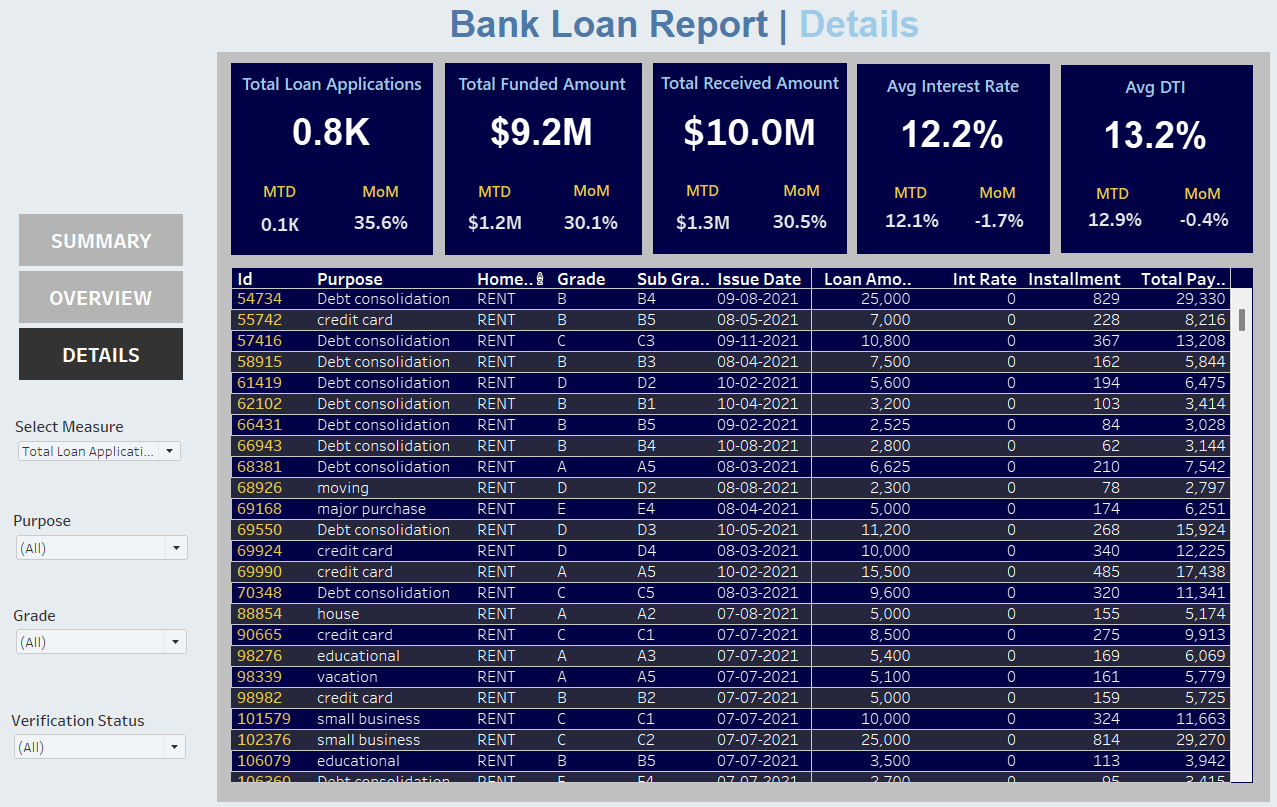

The page's visual inventory and layout, read from the dashboard file:
{"tool":"tableau","page":{"name":"DETAILS","canvas":[1600,900],"ordinal":0},"visuals":[{"type":"text","box":[451,7,541,47]},{"type":"worksheet","title":"Total Received Amount","mark":"Automatic","box":[661,73,188,88]},{"type":"worksheet","title":"Total Loan Applications","mark":"Automatic","box":[240,74,194,93]},{"type":"worksheet","title":"Total Funded Amount","mark":"Automatic","box":[453,74,188,93]},{"type":"worksheet","title":"Avg Interest Rate","mark":"Automatic","box":[865,76,186,92]},{"type":"worksheet","title":"Avg DTI","mark":"Automatic","box":[1082,77,157,93]},{"type":"text","box":[566,181,61,30]},{"type":"text","box":[677,181,61,30]},{"type":"text","box":[776,181,61,30]},{"type":"text","box":[254,182,61,30]},{"type":"text","box":[355,182,61,30]},{"type":"text","box":[469,182,61,30]},{"type":"text","box":[885,183,61,30]},{"type":"text","box":[972,183,61,30]},{"type":"text","box":[1087,184,61,30]},{"type":"text","box":[1177,184,61,30]},{"type":"worksheet","title":"MoM Total Amount Received","mark":"Automatic","box":[769,202,72,50]},{"type":"worksheet","title":"MTD Avg DTI","mark":"Automatic","box":[1088,202,64,46]},{"type":"worksheet","title":"MTD Avg Interest Rate","mark":"Automatic","box":[876,203,83,46]},{"type":"worksheet","title":"MTD Total Loan Applications","mark":"Automatic","box":[240,204,91,52]},{"type":"worksheet","title":"MTD Total Amount Received","mark":"Automatic","box":[670,205,78,46]},{"type":"worksheet","title":"MoM Avg DTI","mark":"Automatic","box":[1177,205,65,41]},{"type":"worksheet","title":"MoM Avg Interest Rate","mark":"Automatic","box":[974,206,62,41]},{"type":"worksheet","title":"MoM Total Loan Applications","mark":"Automatic","box":[351,207,71,42]},{"type":"worksheet","title":"MTD Total Funded Amount","mark":"Automatic","box":[462,209,77,39]},{"type":"worksheet","title":"MoM Total Funded Amount","mark":"Automatic","box":[562,210,69,36]},{"type":"dashboard-object","box":[24,220,164,52]},{"type":"worksheet","title":"Details Tab","mark":"Automatic","rows":["id","purpose","home_ownership","grade","sub_grade","issue_date"],"box":[236,274,1021,515]},{"type":"dashboard-object","box":[24,277,164,52]},{"type":"dashboard-object","box":[24,334,164,52]},{"type":"parameter","param":"[Parameters].[Parameter 1]","box":[20,422,169,48]},{"type":"filter","title":"Avg DTI","param":"[federated.19yf0wd0rd5e221dhp3870jd0gmx].[none:purpose:nk]","box":[18,516,178,59]},{"type":"filter","title":"Avg DTI","param":"[federated.19yf0wd0rd5e221dhp3870jd0gmx].[none:grade:nk]","box":[18,611,177,52]},{"type":"filter","title":"Avg DTI","param":"[federated.19yf0wd0rd5e221dhp3870jd0gmx].[none:verification_status:nk]","box":[16,716,178,52]}]}

Visuals, with their boxes on the page's 1600x900 design canvas (x1, y1, x2, y2). These are canvas units, not pixel positions in the 1277x807 screenshot, which may show the page scaled, cropped or inside an application window:
text: (left=451, top=7, right=992, bottom=54)
"Total Received Amount" worksheet: (left=661, top=73, right=849, bottom=161)
"Total Loan Applications" worksheet: (left=240, top=74, right=434, bottom=167)
"Total Funded Amount" worksheet: (left=453, top=74, right=641, bottom=167)
"Avg Interest Rate" worksheet: (left=865, top=76, right=1051, bottom=168)
"Avg DTI" worksheet: (left=1082, top=77, right=1239, bottom=170)
text: (left=566, top=181, right=627, bottom=211)
text: (left=677, top=181, right=738, bottom=211)
text: (left=776, top=181, right=837, bottom=211)
text: (left=254, top=182, right=315, bottom=212)
text: (left=355, top=182, right=416, bottom=212)
text: (left=469, top=182, right=530, bottom=212)
text: (left=885, top=183, right=946, bottom=213)
text: (left=972, top=183, right=1033, bottom=213)
text: (left=1087, top=184, right=1148, bottom=214)
text: (left=1177, top=184, right=1238, bottom=214)
"MoM Total Amount Received" worksheet: (left=769, top=202, right=841, bottom=252)
"MTD Avg DTI" worksheet: (left=1088, top=202, right=1152, bottom=248)
"MTD Avg Interest Rate" worksheet: (left=876, top=203, right=959, bottom=249)
"MTD Total Loan Applications" worksheet: (left=240, top=204, right=331, bottom=256)
"MTD Total Amount Received" worksheet: (left=670, top=205, right=748, bottom=251)
"MoM Avg DTI" worksheet: (left=1177, top=205, right=1242, bottom=246)
"MoM Avg Interest Rate" worksheet: (left=974, top=206, right=1036, bottom=247)
"MoM Total Loan Applications" worksheet: (left=351, top=207, right=422, bottom=249)
"MTD Total Funded Amount" worksheet: (left=462, top=209, right=539, bottom=248)
"MoM Total Funded Amount" worksheet: (left=562, top=210, right=631, bottom=246)
dashboard-object: (left=24, top=220, right=188, bottom=272)
"Details Tab" worksheet: (left=236, top=274, right=1257, bottom=789)
dashboard-object: (left=24, top=277, right=188, bottom=329)
dashboard-object: (left=24, top=334, right=188, bottom=386)
parameter: (left=20, top=422, right=189, bottom=470)
"Avg DTI" filter: (left=18, top=516, right=196, bottom=575)
"Avg DTI" filter: (left=18, top=611, right=195, bottom=663)
"Avg DTI" filter: (left=16, top=716, right=194, bottom=768)
